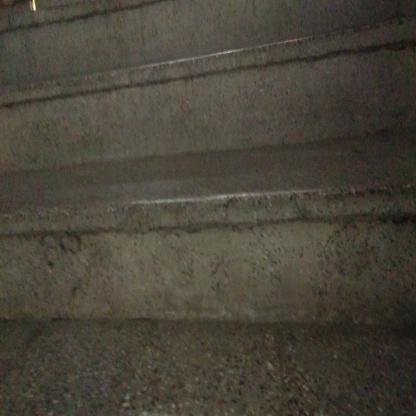stairs: (16, 62, 393, 360)
